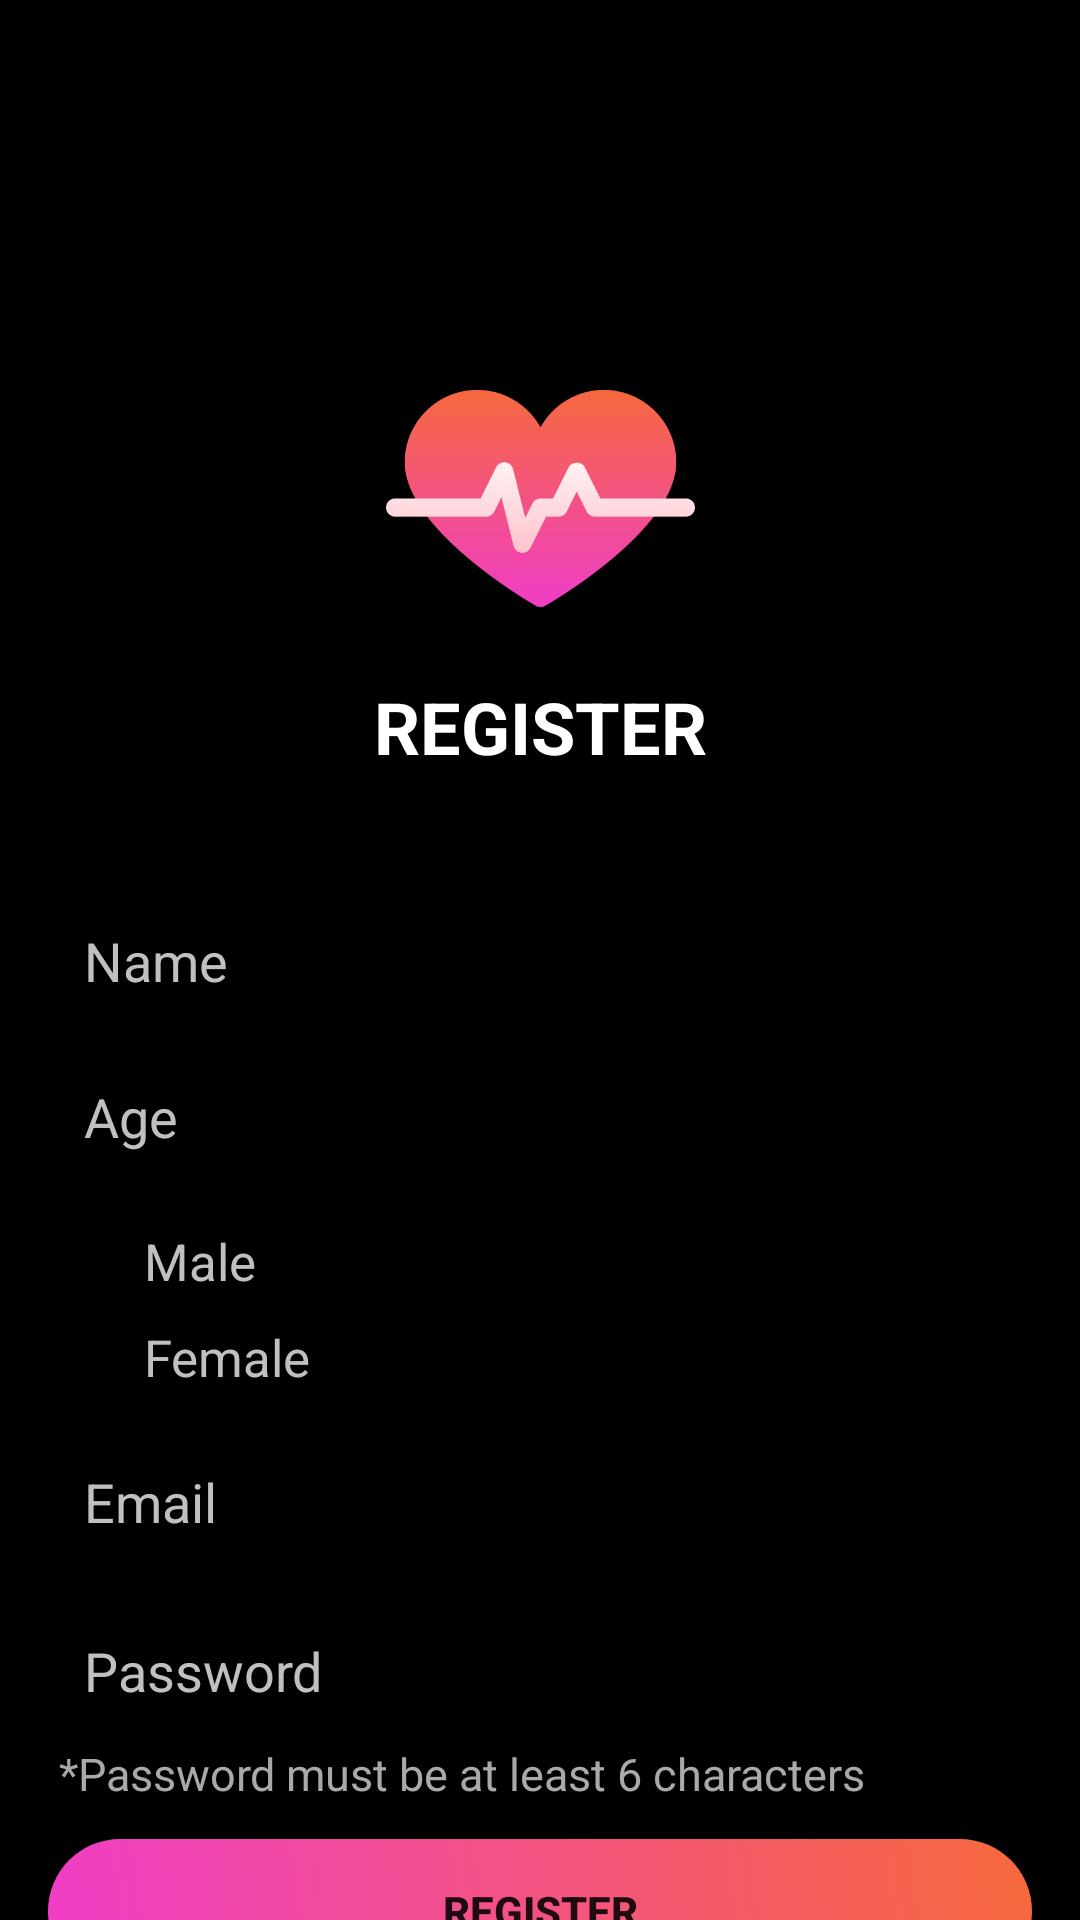

Point at icon controls on the screen. Image size 1080*1920, points as (x=x, y=y).
heart beat: (x=540, y=498)
